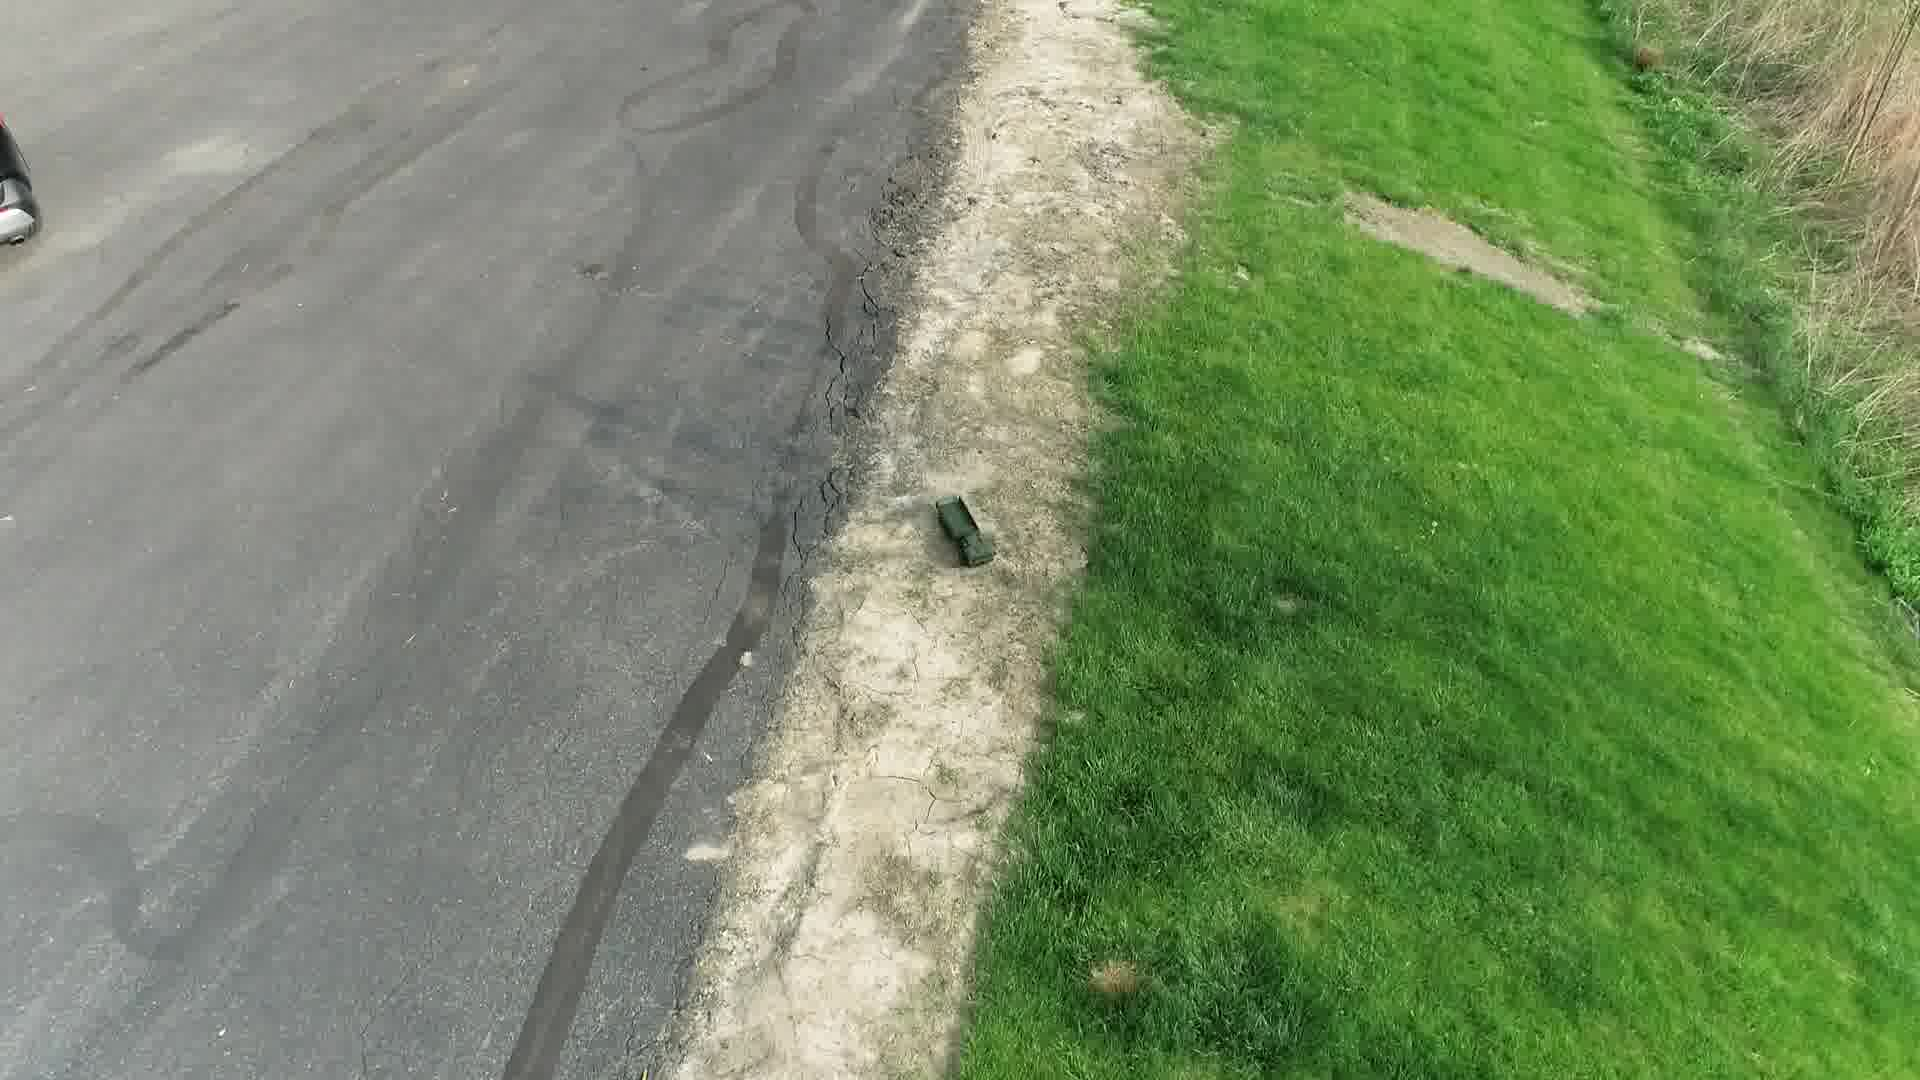transporter9: (934, 492, 998, 568)
